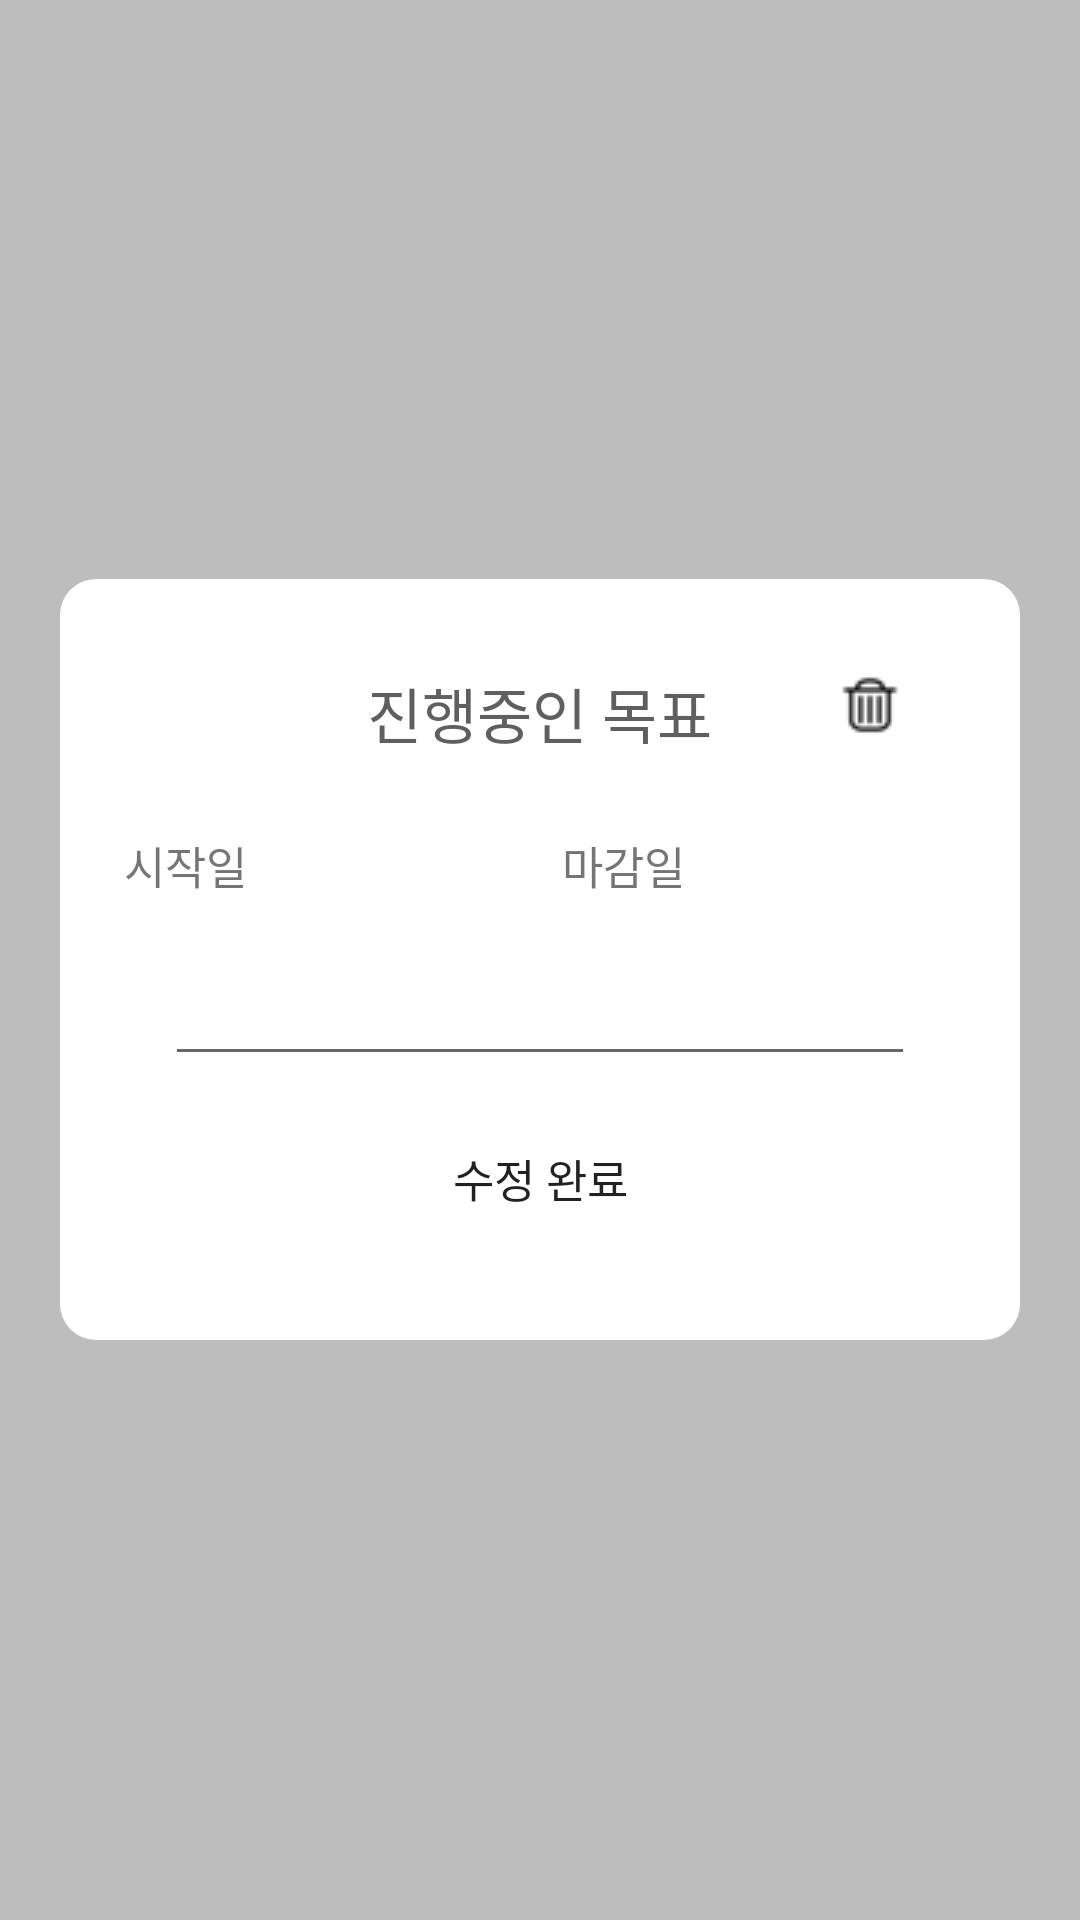

Icons on this 1080 × 1920 Android screen, each with its box as BBox(x1, y1, x2, y2):
trash: BBox(842, 677, 898, 733)
